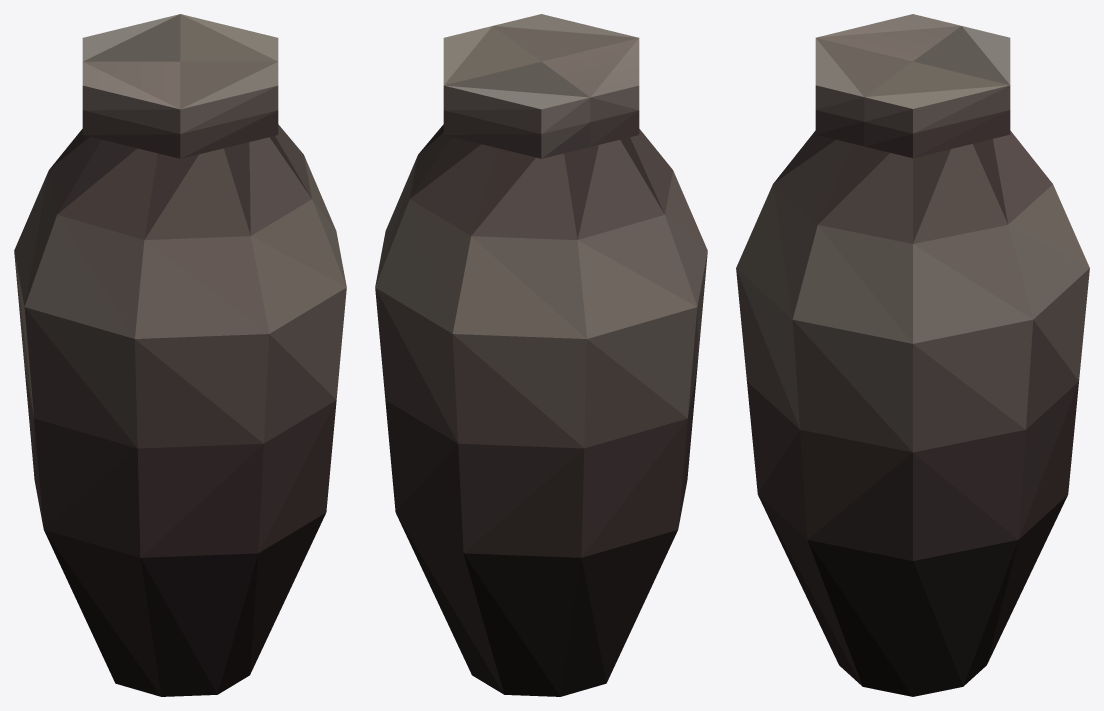
File: prop_container_vase_7.fbx
3 views of the same model, side by side, from view 1: azimuth 30°, elevation 25°; view 2: azimuth 150°, elevation 25°; view 3: azimuth 270°, elevation 25° (orthographic).
Parts seen in each view (by area): view 1: prop_container_vase_7; view 2: prop_container_vase_7; view 3: prop_container_vase_7.
Boxes of the visible parts, x1,y1,x2,y2 form: prop_container_vase_7: (14,14,346,696); prop_container_vase_7: (375,14,707,696); prop_container_vase_7: (736,14,1089,696).
Size of the model in its own units: 0.5311 by 0.9865 by 0.524.
